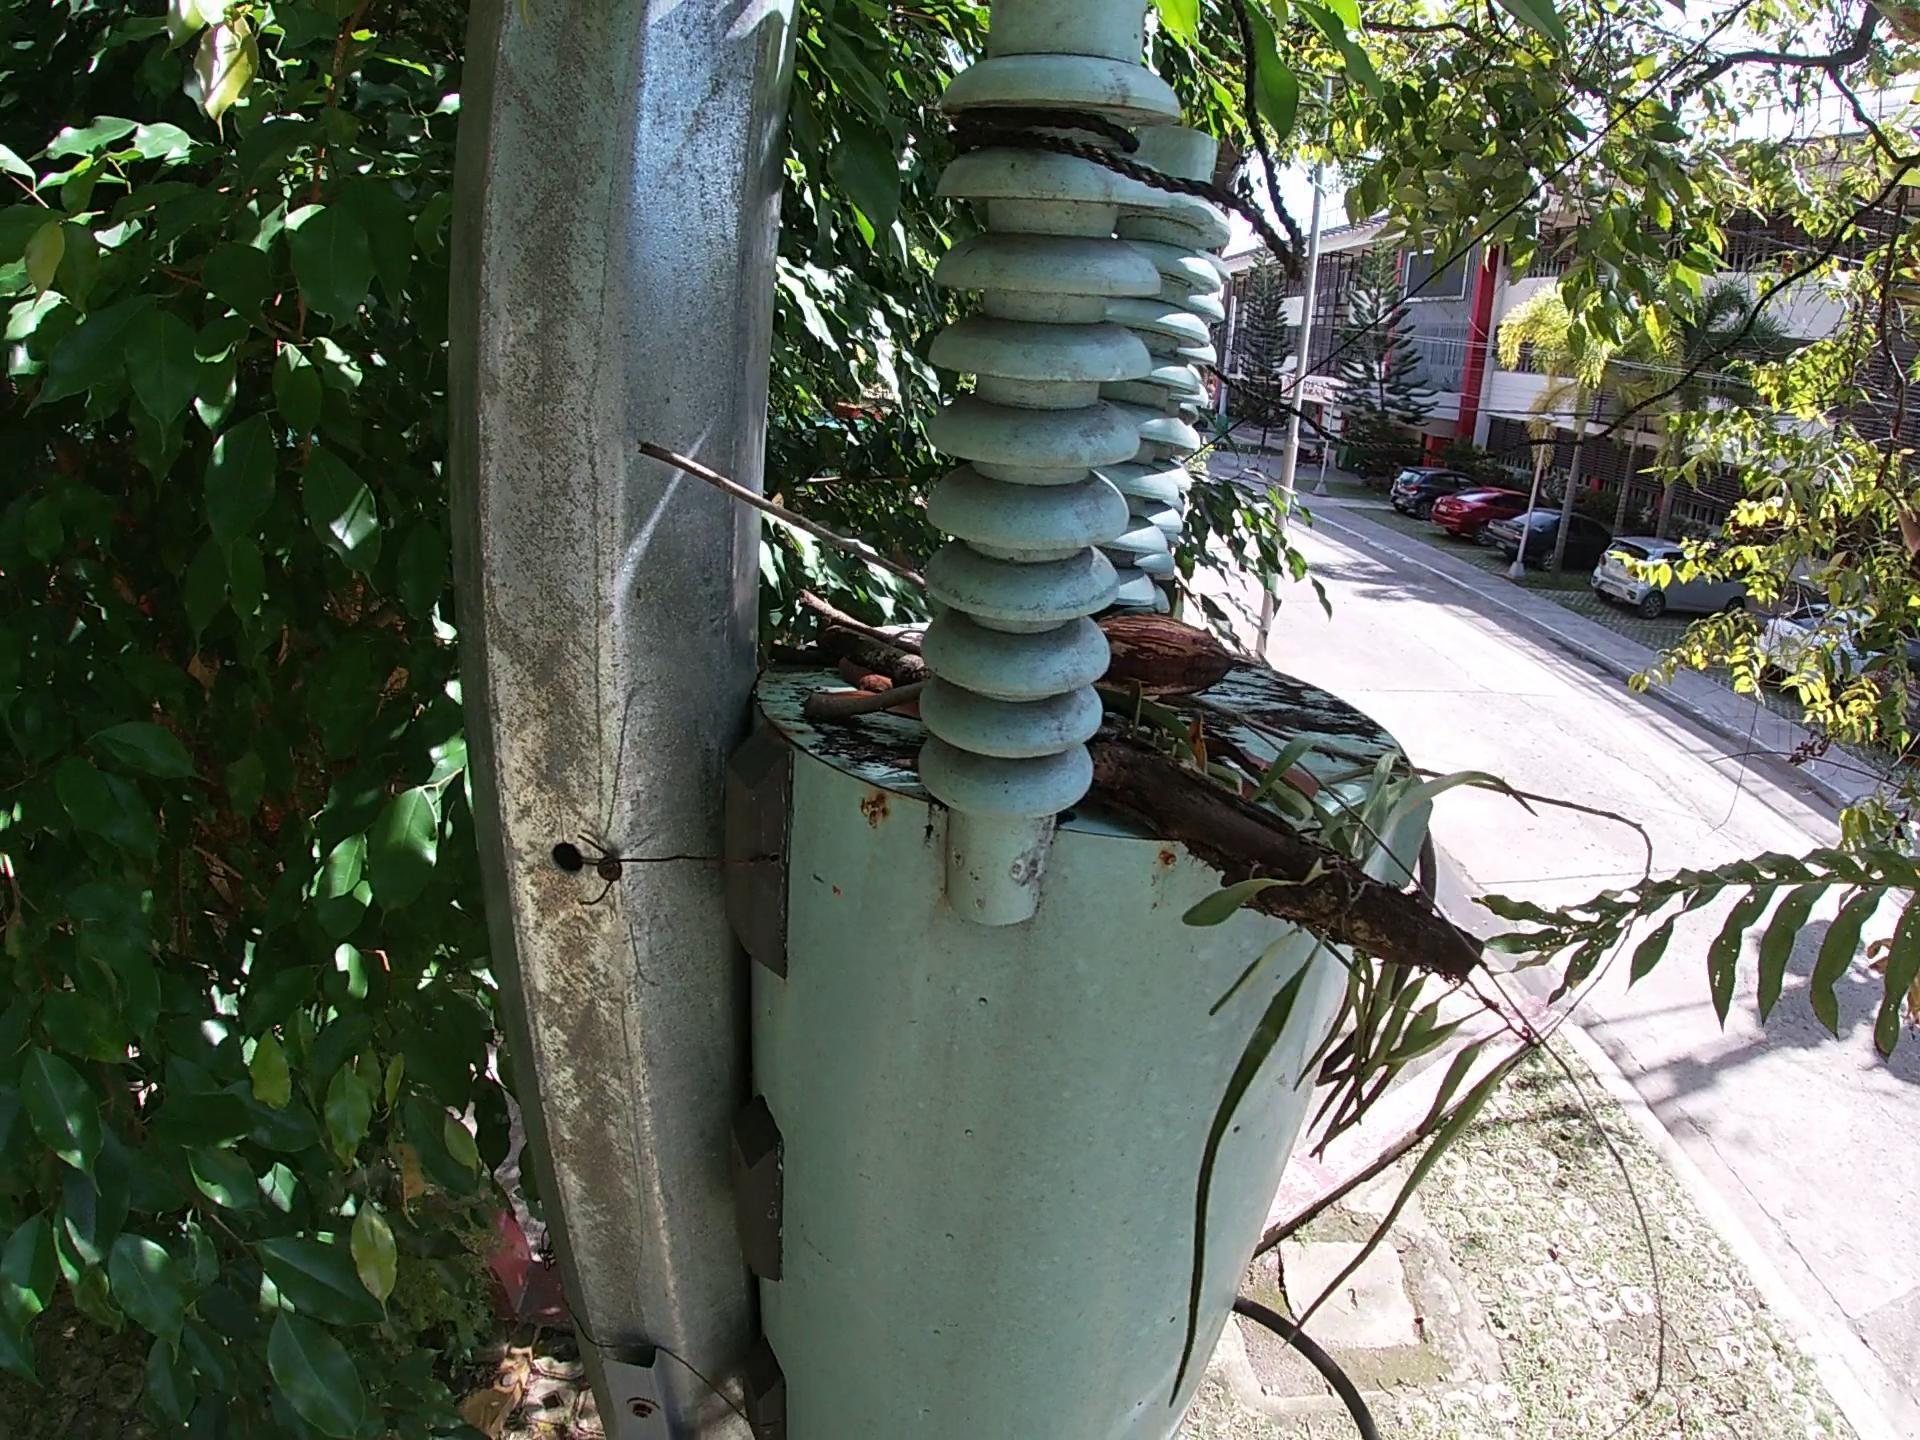branch with leaves: (850, 635, 1507, 1124)
leaf: (1184, 700, 1398, 882)
mahogany fruit: (703, 479, 844, 631), (711, 484, 723, 489)
tree branch: (623, 413, 1801, 906)
